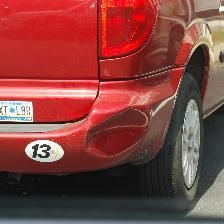dent: (101, 107, 147, 134)
